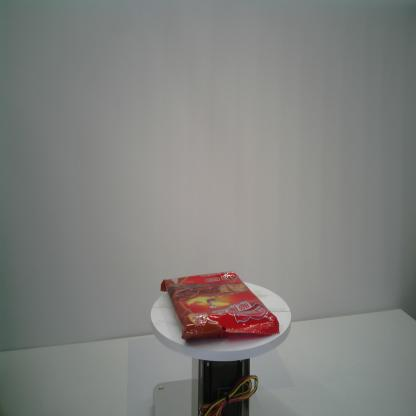Dessert: (160, 271, 280, 342)
